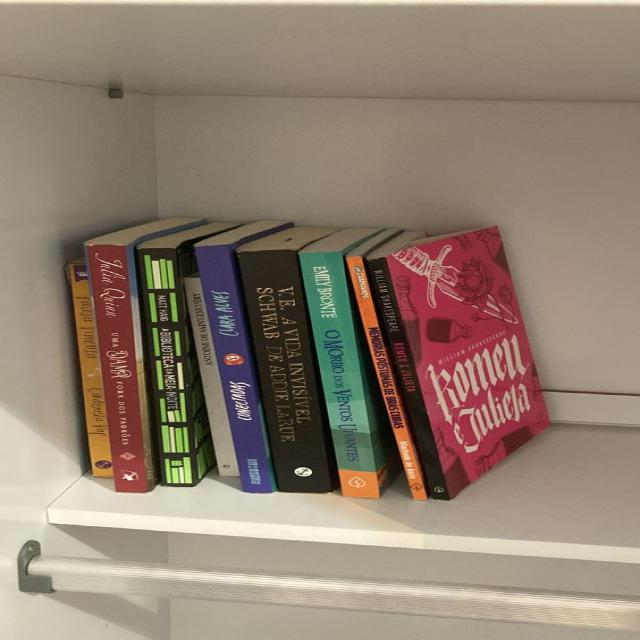book: (238, 249, 334, 493), (345, 256, 431, 500), (364, 257, 450, 500), (297, 251, 378, 498), (195, 243, 272, 492), (87, 243, 151, 494), (141, 248, 196, 487), (184, 278, 238, 476), (69, 264, 115, 476)
